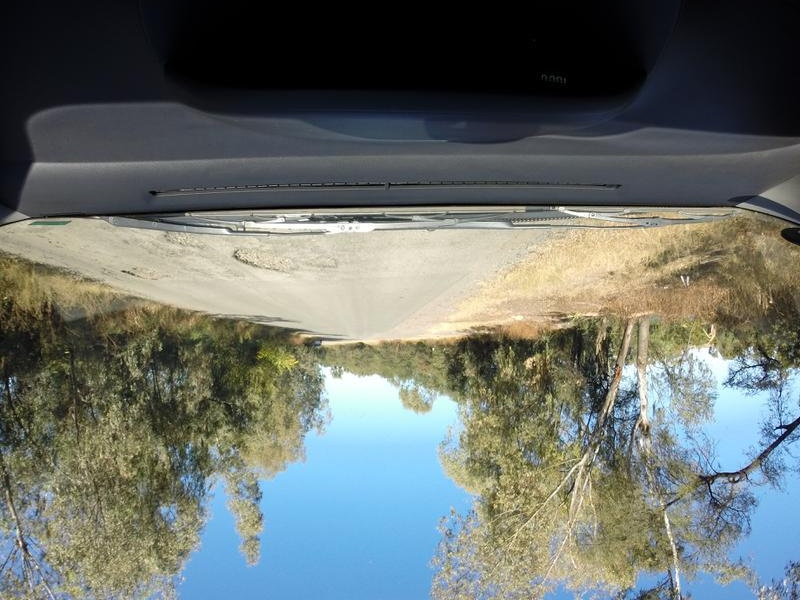pothole: (232, 251, 296, 279), (111, 257, 159, 283), (165, 232, 201, 255), (301, 253, 338, 273)
